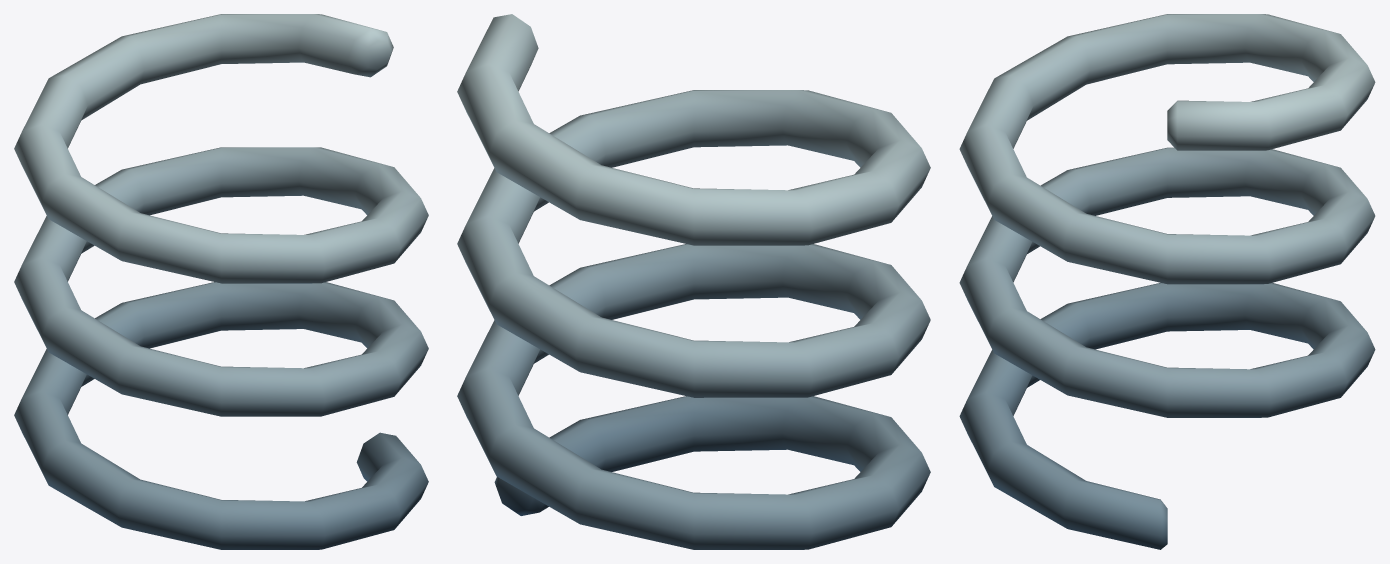
Rendered from Mola.fbx.
3 views of the same model, side by side, from view 1: azimuth 30°, elevation 25°; view 2: azimuth 150°, elevation 25°; view 3: azimuth 270°, elevation 25° (orthographic). The views are drawn at different scales.
Visible parts, largest first — view 1: Circle; view 2: Circle; view 3: Circle.
Part boxes in pixels (x1,y1,x2,y2): Circle: [14, 14, 428, 549]; Circle: [457, 14, 930, 549]; Circle: [959, 14, 1375, 549].
Size of the model in its own units: 81.83 by 97.08 by 81.83.
